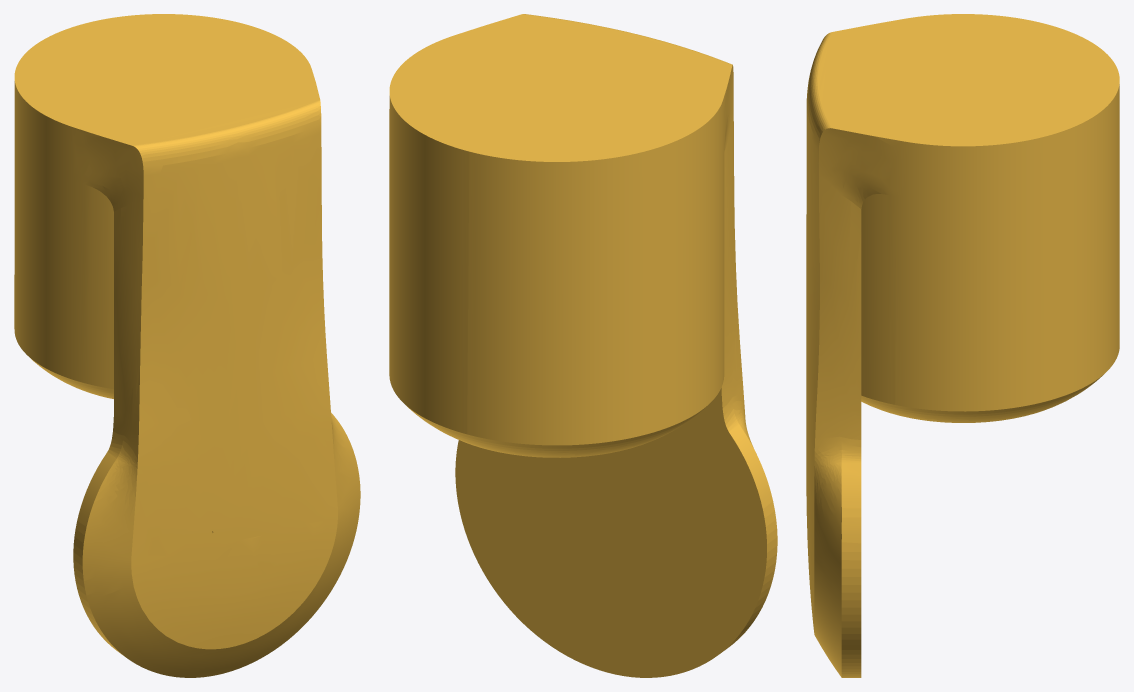
File: arml4.obj
The picture shows the model from 3 angles, left to right: view 1: azimuth 30°, elevation 25°; view 2: azimuth 150°, elevation 25°; view 3: azimuth 270°, elevation 25°; orthographic projection. The views are drawn at different scales.
Parts seen in each view (by area): view 1: arml4_002-mesh; view 2: arml4_002-mesh; view 3: arml4_002-mesh.
Boxes of the visible parts, bbox=[...] form: arml4_002-mesh: bbox=[14, 14, 360, 677]; arml4_002-mesh: bbox=[389, 14, 777, 677]; arml4_002-mesh: bbox=[806, 14, 1119, 677].
Size of the model in its own units: 0.086 by 0.164 by 0.0801.
Materials: 1 (1 with a texture image).
